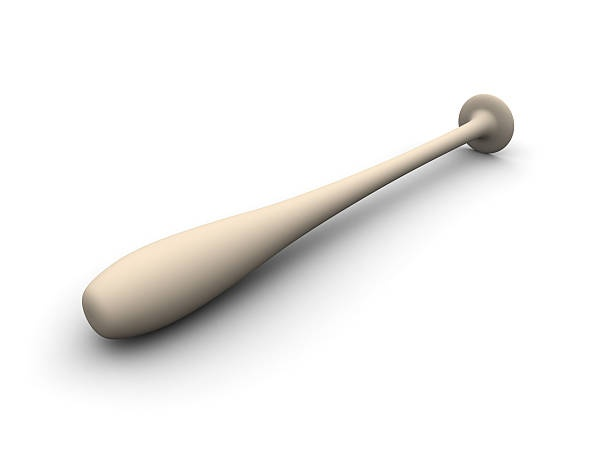bita: (76, 92, 517, 340)
